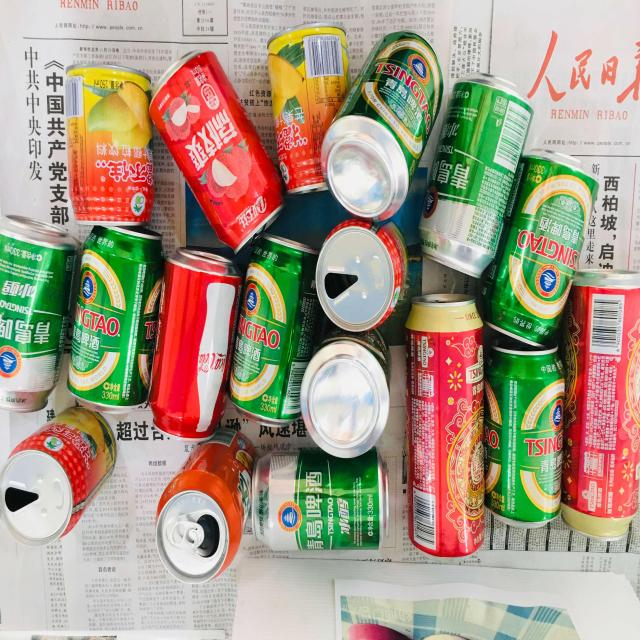can: (154, 48, 291, 258), (415, 71, 536, 279), (320, 30, 444, 223), (487, 147, 600, 347), (403, 297, 485, 562), (564, 258, 639, 546), (71, 225, 170, 420), (229, 232, 316, 430), (149, 244, 237, 437), (154, 426, 258, 587), (2, 406, 117, 547), (0, 213, 78, 415), (266, 20, 352, 202), (64, 62, 155, 227), (251, 446, 388, 554), (487, 344, 565, 529)
